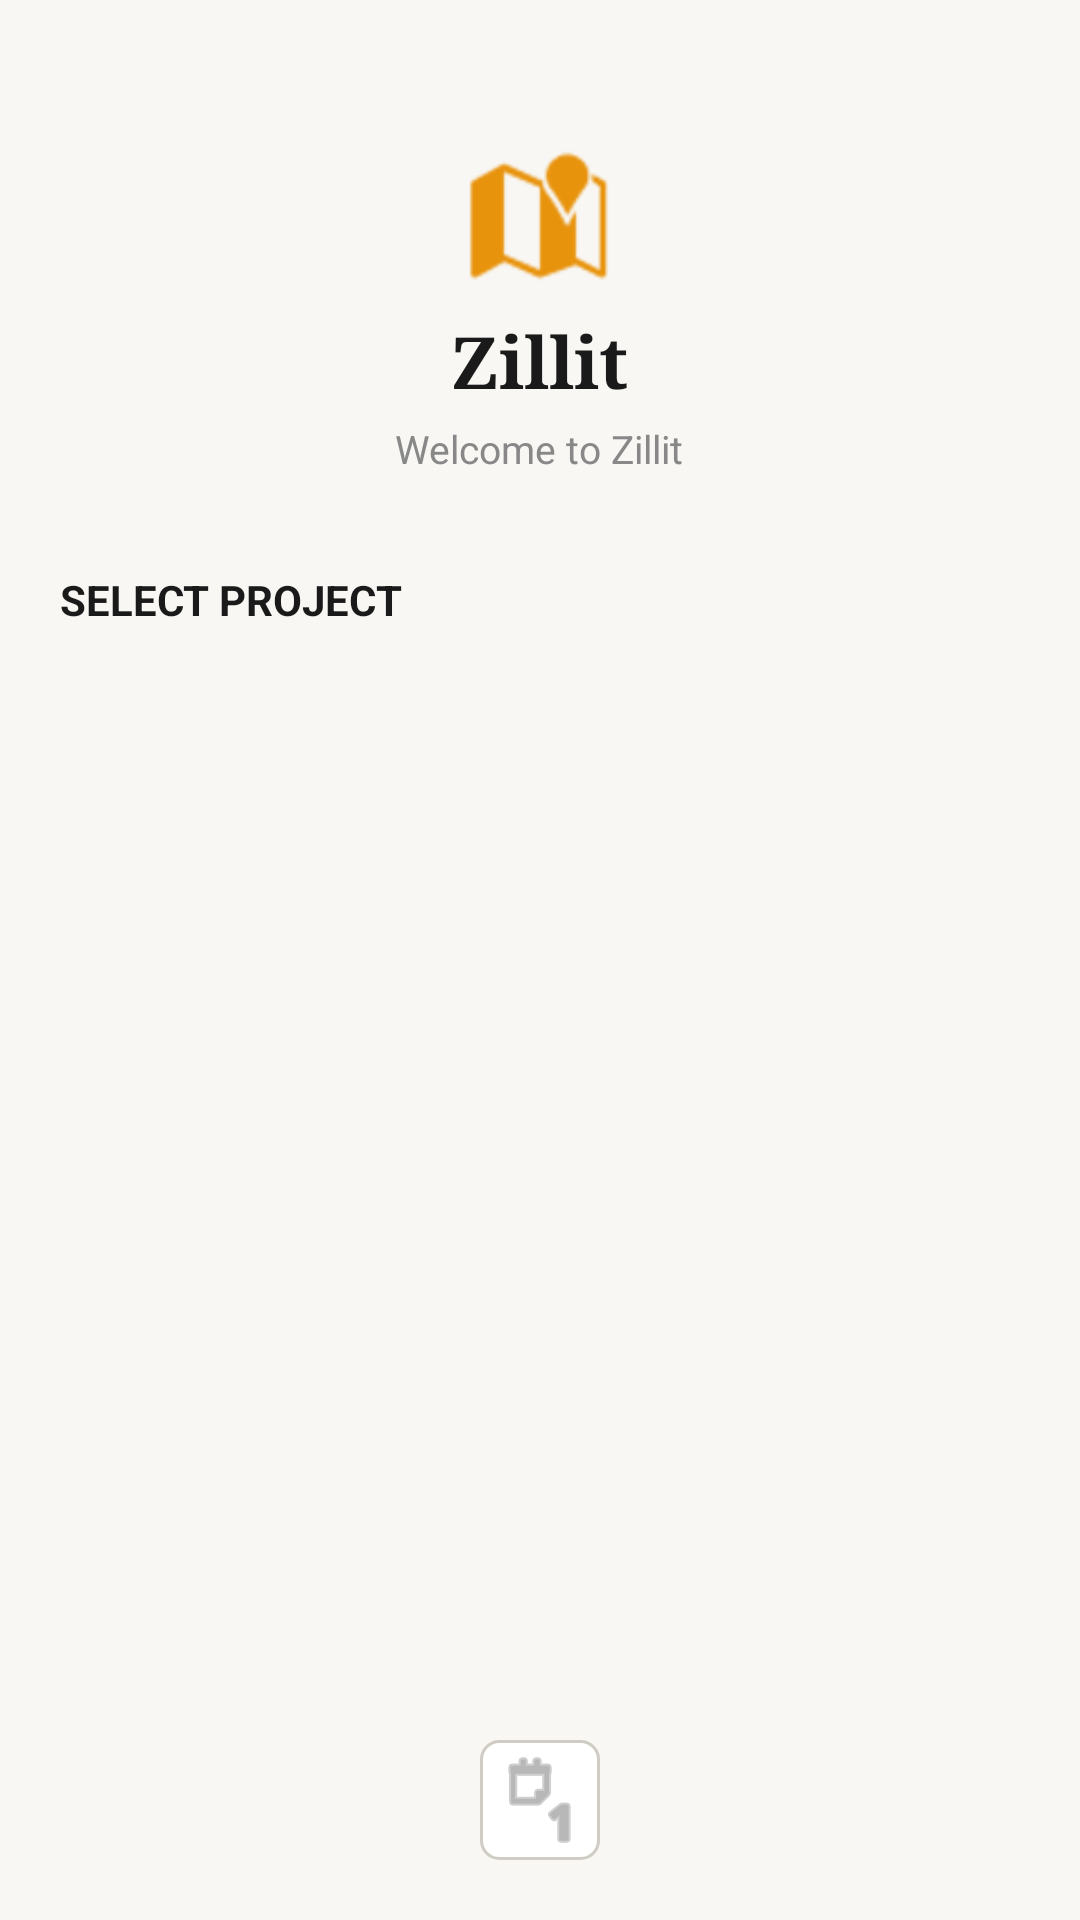

Icon bounding boxes for this 1080×1920 phone screenshot, format {"left": x1, "top": y1, "right": x2, "bottom": y2}:
map: {"left": 469, "top": 152, "right": 608, "bottom": 280}
